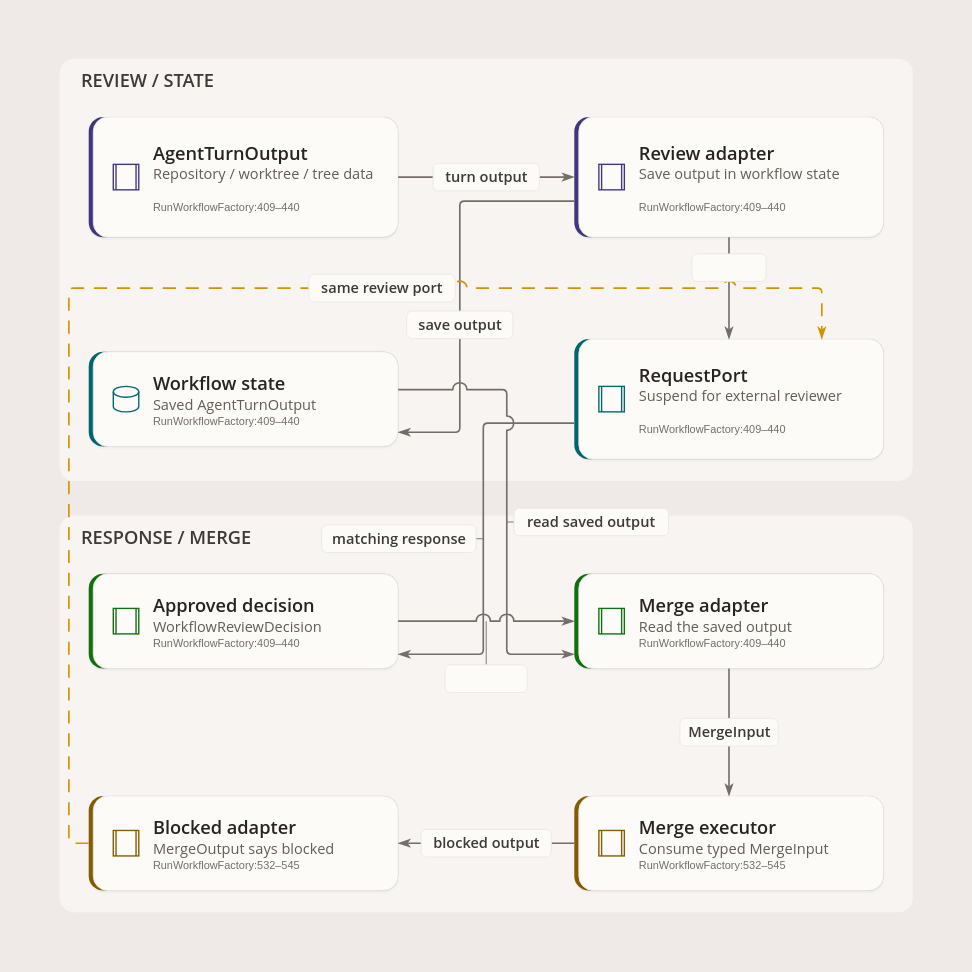
Some shapes in this 972 by 972 pixel diagram are drawn without their labels. The shapes that lost their labels are listed below. From the top down, each one's box as (x1, y1, x2, y2) in pixels, then its label:
(691, 253, 766, 282): request
(444, 664, 527, 693): approved
